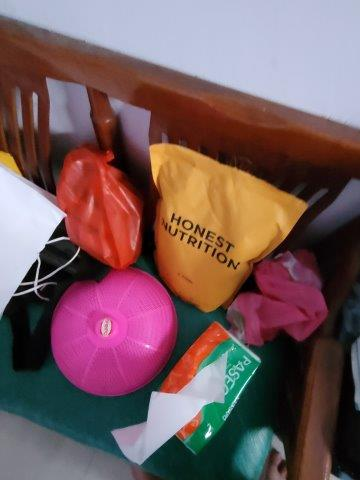plastik: (55, 148, 144, 269)
